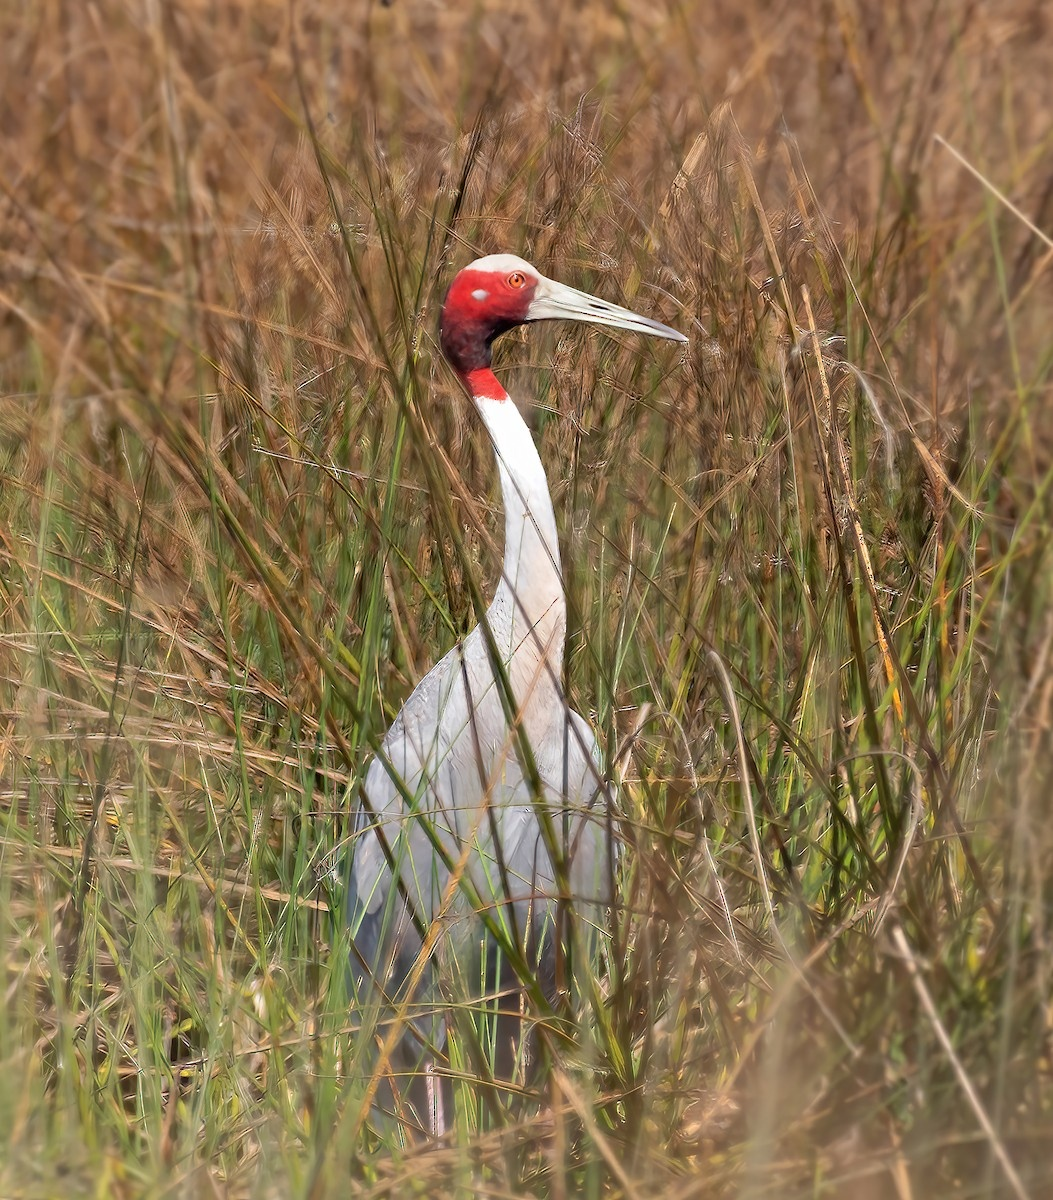crane: (333, 249, 691, 1047)
